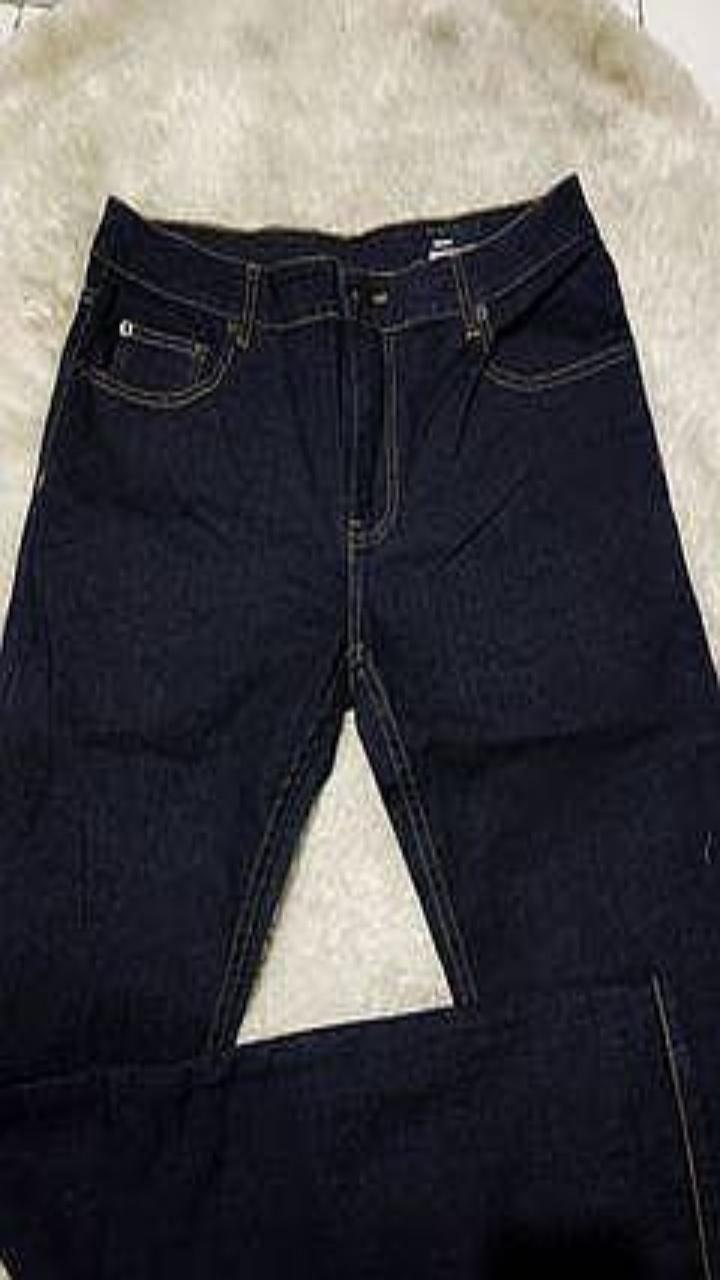Jeans: (0, 173, 719, 1279)
